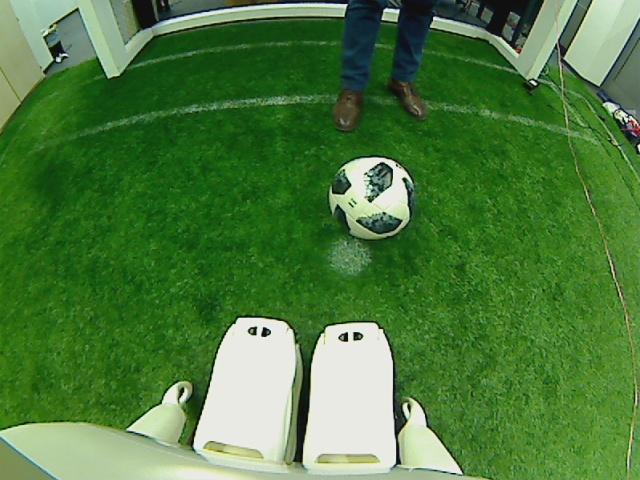ball: (330, 152, 413, 243)
